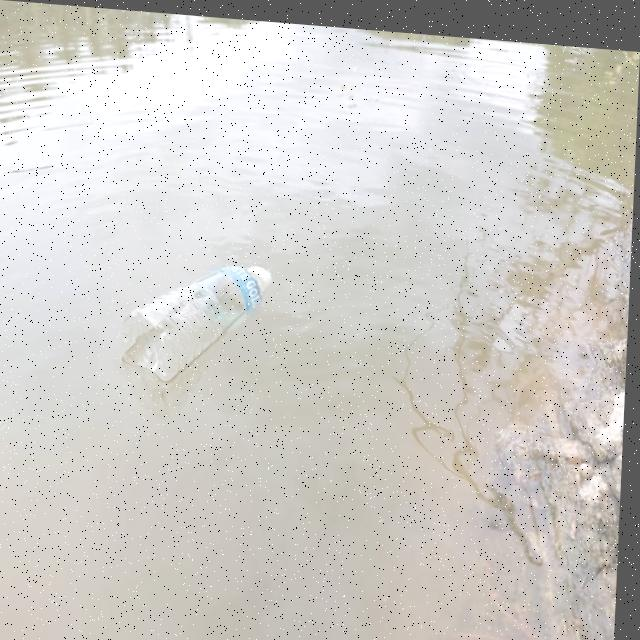waterbottle: (130, 244, 269, 378)
